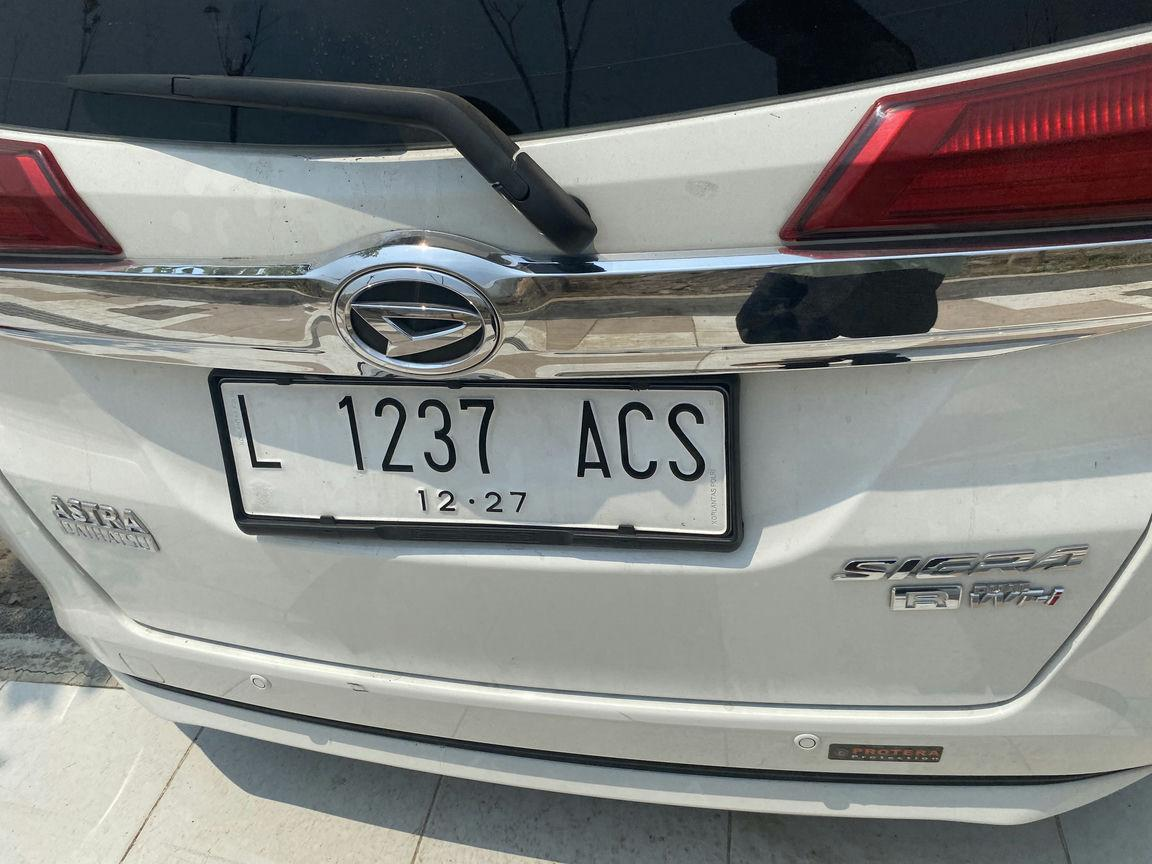plat: (214, 378, 738, 547)
